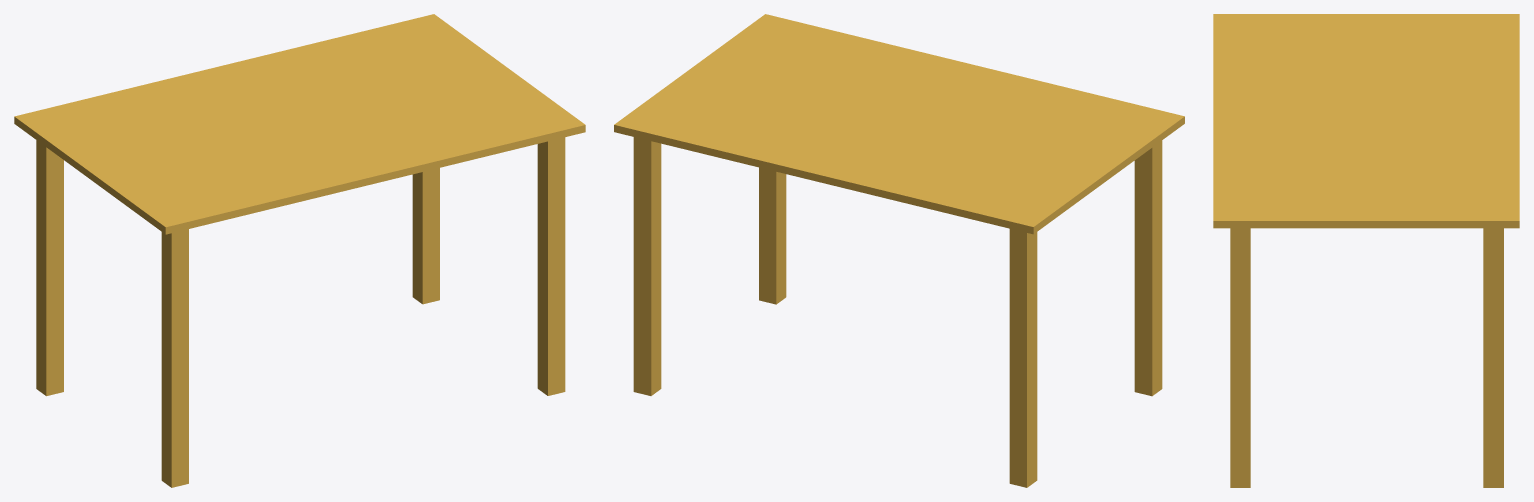
The model's file is desk.glb.
3 renders of one model, left to right at view 1: azimuth 30°, elevation 25°; view 2: azimuth 150°, elevation 25°; view 3: azimuth 270°, elevation 25°, orthographic.
Visible parts, largest first — view 1: TableTop, Leg, Leg.001, Leg.002, Leg.003; view 2: TableTop, Leg.002, Leg.003, Leg.001, Leg; view 3: TableTop, Leg, Leg.003.
Boxes of the visible parts, x1,y1,x2,y2 form: TableTop: [14, 14, 585, 234]; Leg: [537, 137, 565, 395]; Leg.001: [161, 229, 188, 487]; Leg.002: [36, 140, 63, 396]; Leg.003: [412, 168, 439, 304]; TableTop: [614, 14, 1184, 234]; Leg.002: [1009, 229, 1037, 487]; Leg.003: [633, 137, 661, 395]; Leg.001: [1134, 140, 1162, 396]; Leg: [759, 167, 786, 304]; TableTop: [1213, 14, 1519, 228]; Leg: [1230, 228, 1250, 487]; Leg.003: [1483, 228, 1503, 487].
Size of the model in its own units: 1.2 by 0.7379 by 0.75.
